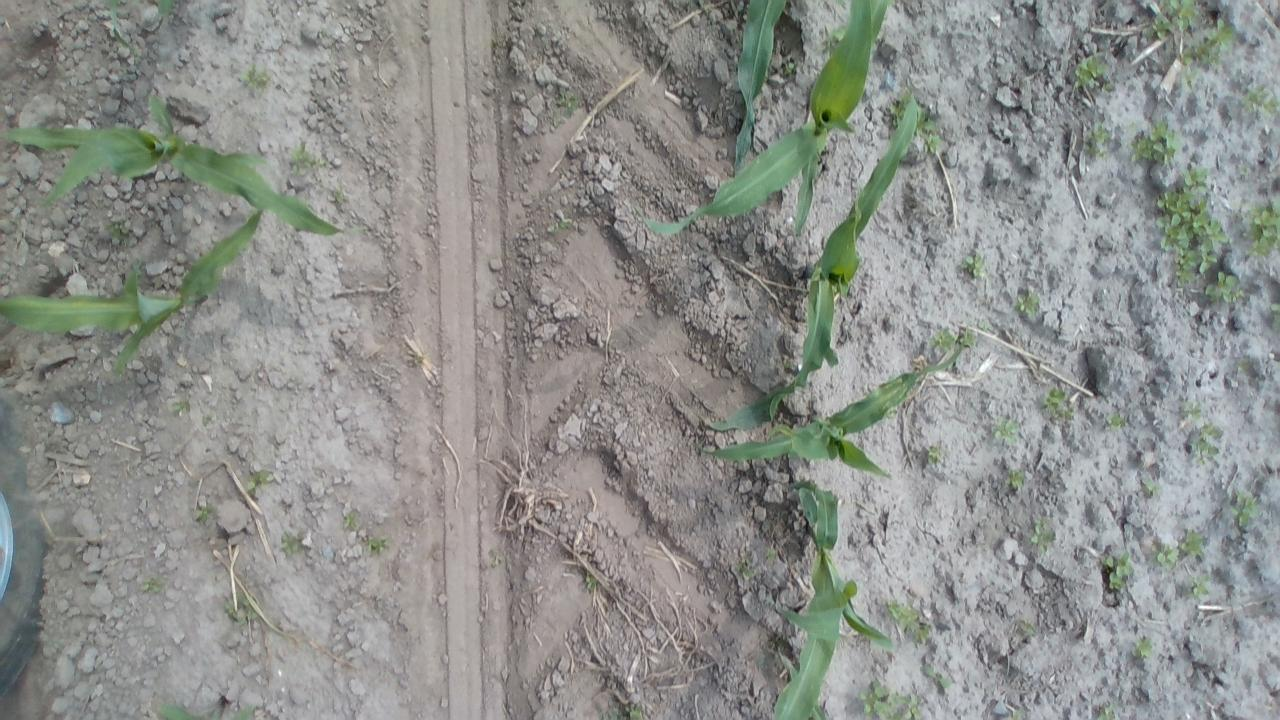Maize: (706, 91, 924, 431), (638, 0, 894, 239), (5, 92, 358, 240), (0, 192, 268, 382), (698, 343, 972, 478), (759, 480, 892, 720), (710, 1, 797, 202), (95, 0, 183, 53), (776, 646, 832, 720), (150, 697, 266, 720)
Weeds: (1155, 166, 1229, 278), (1180, 16, 1240, 90), (1130, 118, 1184, 164), (858, 682, 924, 718), (883, 596, 929, 642), (1243, 199, 1277, 260), (1142, 1, 1198, 38), (1100, 546, 1136, 594), (1188, 422, 1222, 468), (1071, 54, 1110, 94), (1204, 272, 1247, 306), (1226, 488, 1260, 530), (1040, 382, 1076, 420), (1236, 84, 1276, 118), (1029, 514, 1058, 556), (598, 696, 649, 718), (288, 142, 324, 173), (1083, 122, 1111, 160), (928, 326, 968, 352), (240, 63, 274, 93), (224, 596, 256, 624), (1014, 288, 1042, 319), (1179, 528, 1206, 560), (553, 85, 580, 117), (1000, 462, 1028, 492), (136, 572, 170, 596), (919, 122, 943, 156), (1184, 570, 1213, 598), (992, 418, 1021, 446), (960, 252, 989, 280), (1152, 540, 1180, 569), (923, 662, 952, 690), (1136, 474, 1164, 502), (888, 90, 911, 124), (246, 467, 272, 496), (1130, 634, 1158, 660), (734, 556, 758, 586), (363, 533, 391, 558), (818, 27, 845, 52), (278, 531, 302, 558), (544, 216, 576, 236), (341, 508, 364, 534), (106, 216, 133, 238), (580, 568, 602, 594), (169, 396, 192, 420), (1104, 411, 1128, 434), (1017, 618, 1041, 640), (924, 443, 946, 466), (1180, 402, 1204, 423), (1094, 700, 1120, 719), (488, 33, 508, 57), (486, 546, 504, 569), (760, 545, 779, 566), (331, 182, 347, 206), (192, 501, 212, 520), (1236, 357, 1255, 377), (404, 354, 429, 369), (201, 410, 216, 428), (782, 61, 796, 78), (1011, 707, 1027, 720)
